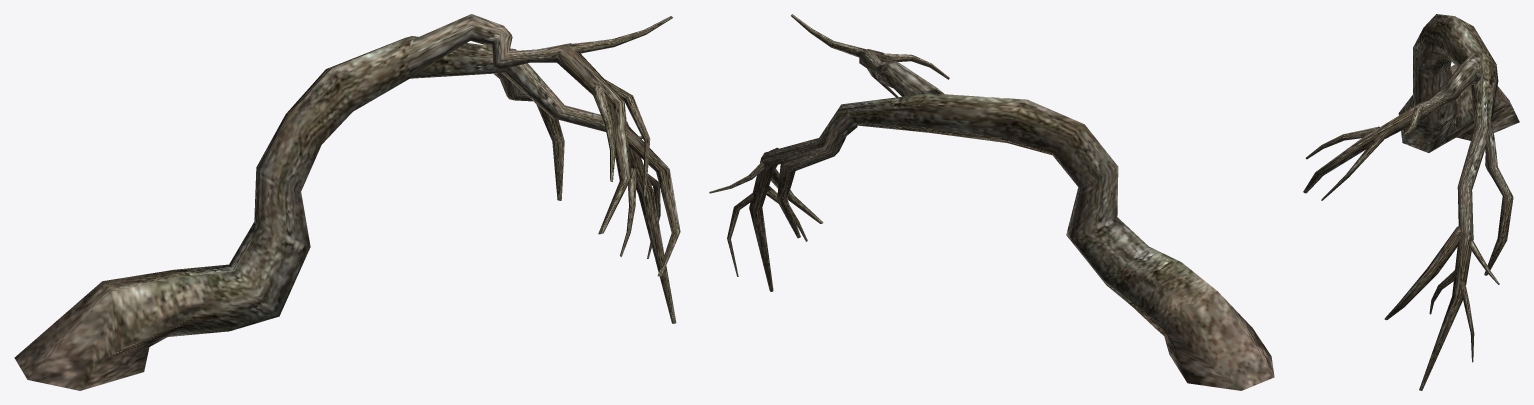
The model's file is deadwood_04.fbx.
3 renders of one model, left to right at view 1: azimuth 30°, elevation 25°; view 2: azimuth 150°, elevation 25°; view 3: azimuth 270°, elevation 25°, orthographic. The views are drawn at different scales.
Parts seen in each view (by area): view 1: deadwood_04; view 2: deadwood_04; view 3: deadwood_04.
Boxes of the visible parts, x1=… form: deadwood_04: x1=14, y1=14, x2=680, y2=390; deadwood_04: x1=709, y1=14, x2=1274, y2=390; deadwood_04: x1=1303, y1=14, x2=1519, y2=390.
Bounding box in the file's own units: 7.88 × 3.9 × 2.92.
